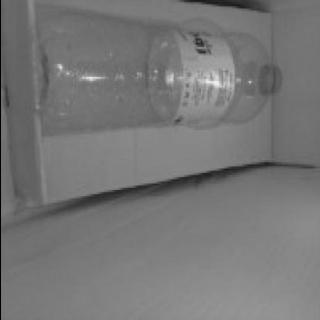plastic_bottles: (22, 12, 288, 146)
